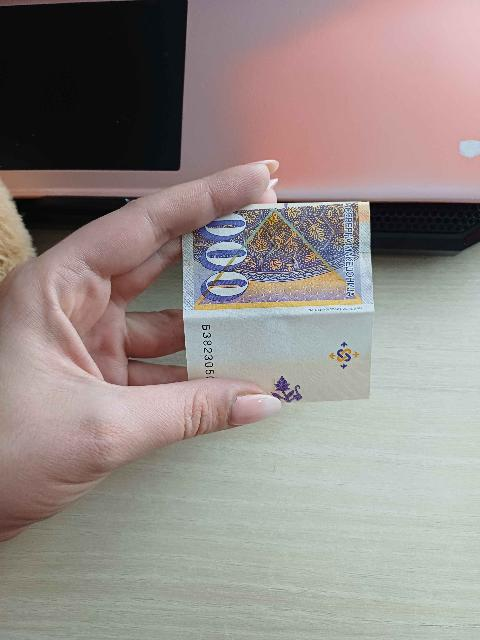note: (184, 203, 373, 402)
